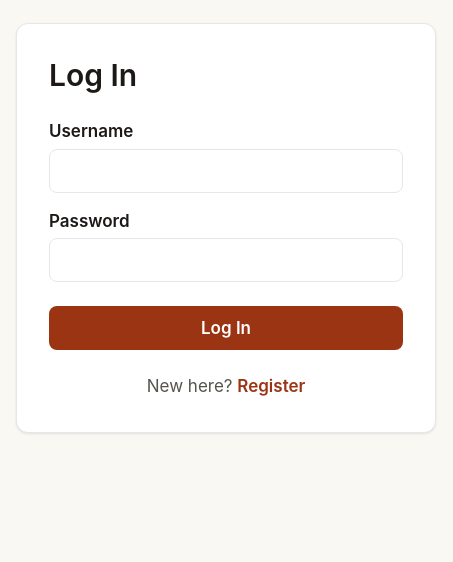
Scenario: Login › shows the offline message specifically when the browser itself reports no connectivity
This screenshot has width=453, height=562.
Type "demo_worker_electrician" into the field labelled "Username" at (226, 171), box left=49, top=149, right=403, bottom=193
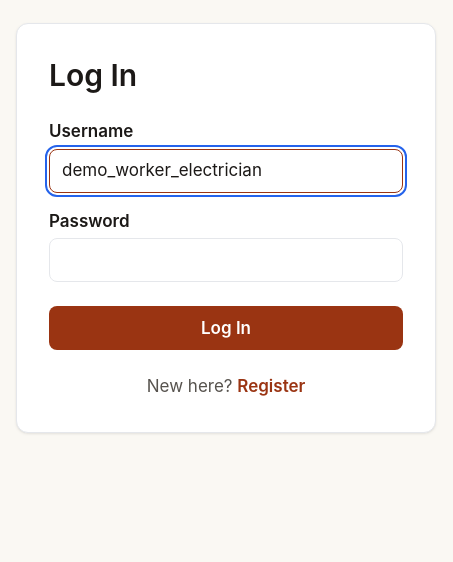
Type "DemoPass123!" into the password field labelled "Password" at (226, 260), box left=49, top=238, right=403, bottom=282
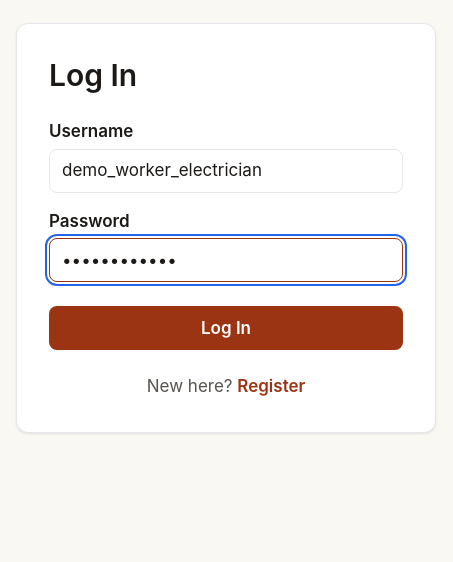
Click the button "Log In" at (226, 328), box left=49, top=306, right=403, bottom=350
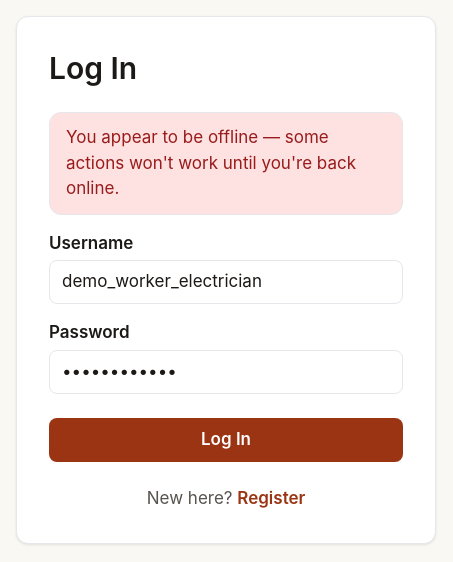
Now the text "You appear to be offline" is shown, box left=66, top=127, right=356, bottom=198
